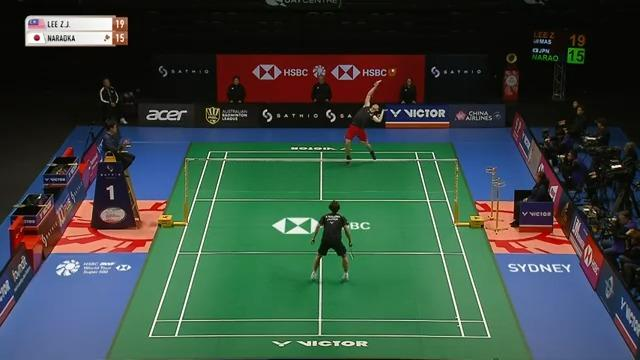Shuttlecock: (390, 67, 396, 73)
